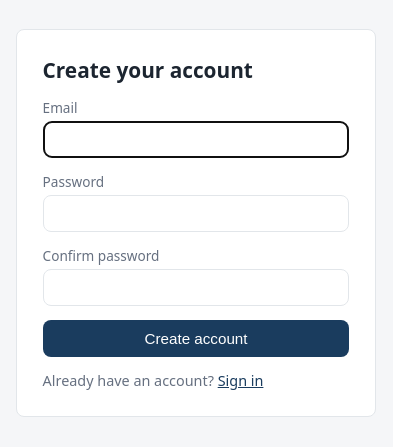
Test: <Register /> › flags mismatched confirmation
Type "new@example.com" into the field labelled "Email" at coordinates (196, 139), box [43,121,349,158]
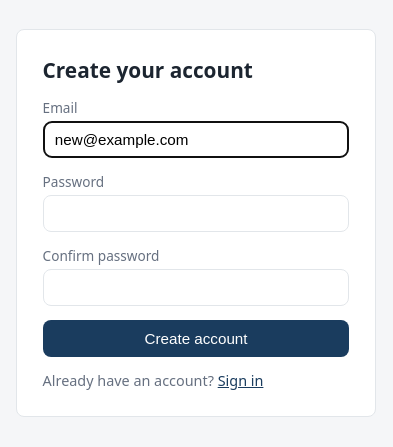
Type "longenough1" into the password field labelled "Password" at coordinates (196, 213), box [43,195,349,232]
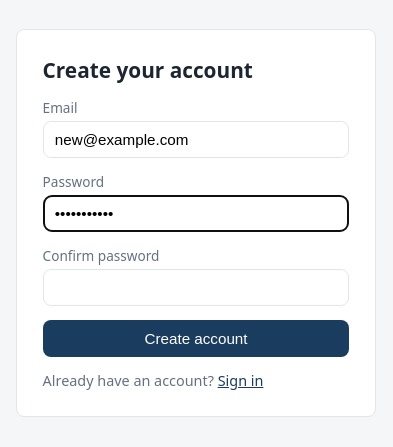
Type "longenough2" into the password field labelled "Confirm password" at coordinates (196, 287), box [43,269,349,306]
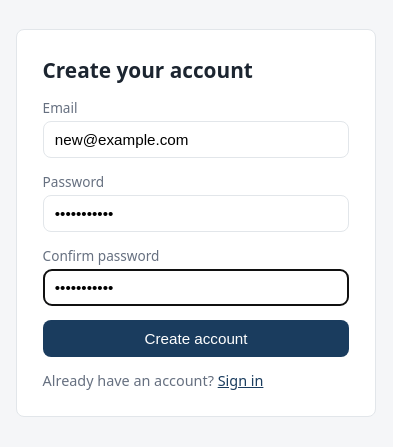
Click the button "Create account" at coordinates (196, 338), box [43,320,349,356]
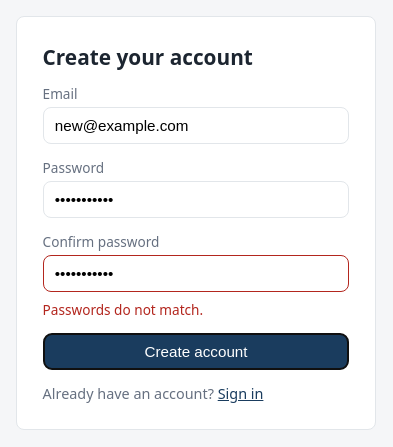
Expected: the text "Passwords do not match." is shown, [43,300,203,319]
